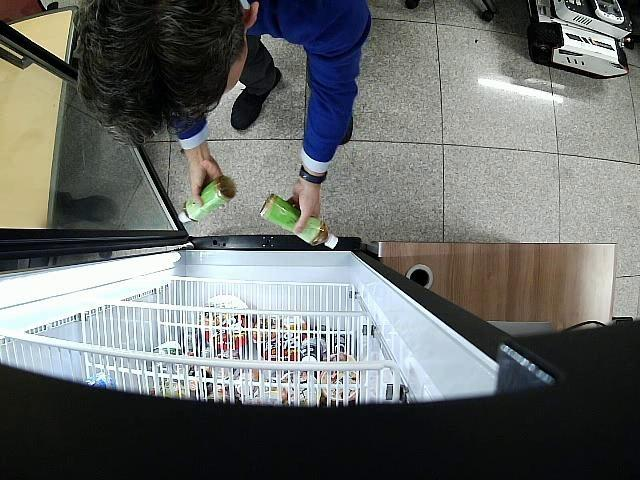19_17cha: (259, 192, 338, 248), (178, 174, 237, 222)
